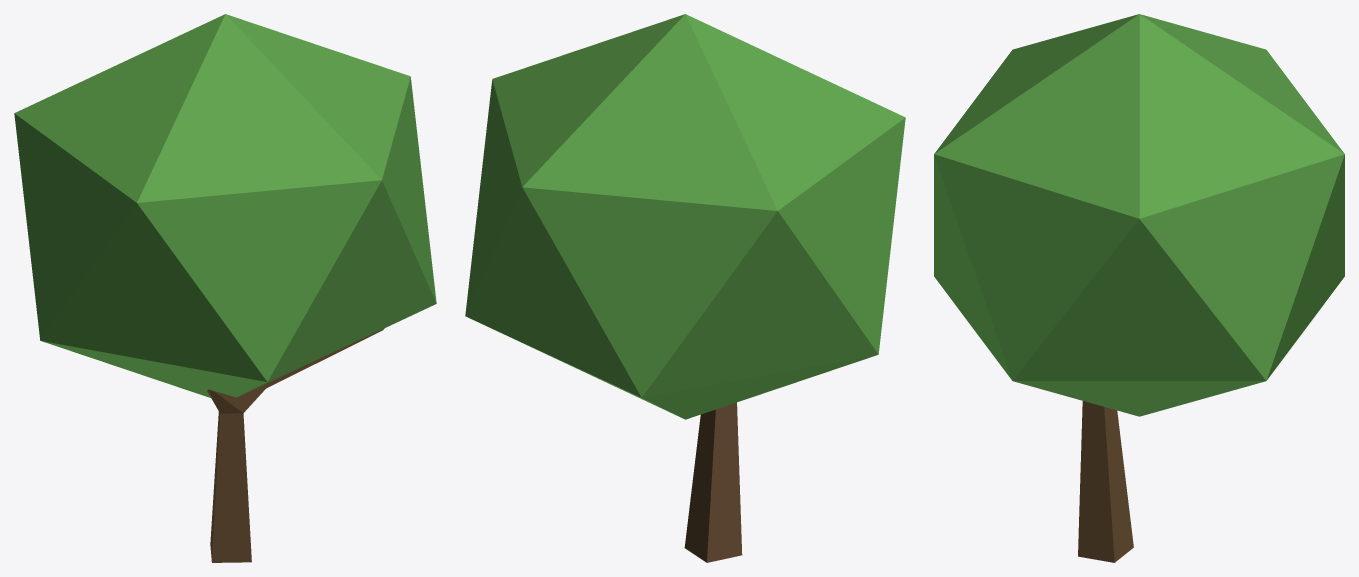
Rendered from Arbre.fbx.
The picture shows the model from 3 angles, left to right: view 1: azimuth 30°, elevation 25°; view 2: azimuth 150°, elevation 25°; view 3: azimuth 270°, elevation 25°; orthographic projection. The views are drawn at different scales.
Visible parts, largest first — view 1: Feuillage.024, Tronc.024; view 2: Feuillage.024, Tronc.024; view 3: Feuillage.024, Tronc.024.
Part boxes in pixels (<box>): Feuillage.024: <box>14,14,436,397</box>; Tronc.024: <box>207,328,384,562</box>; Feuillage.024: <box>465,14,905,419</box>; Tronc.024: <box>684,402,742,562</box>; Feuillage.024: <box>934,14,1344,416</box>; Tronc.024: <box>1078,401,1133,562</box>.
Size of the model in its own units: 514 by 697 by 477.
